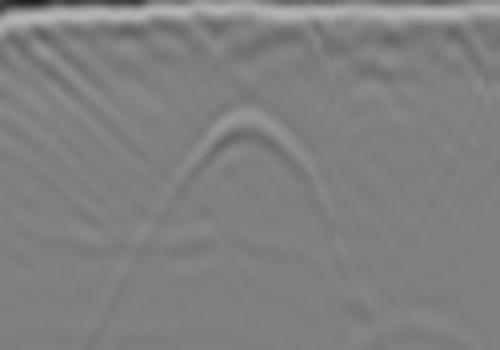hyperbola: (156, 92, 340, 211)
